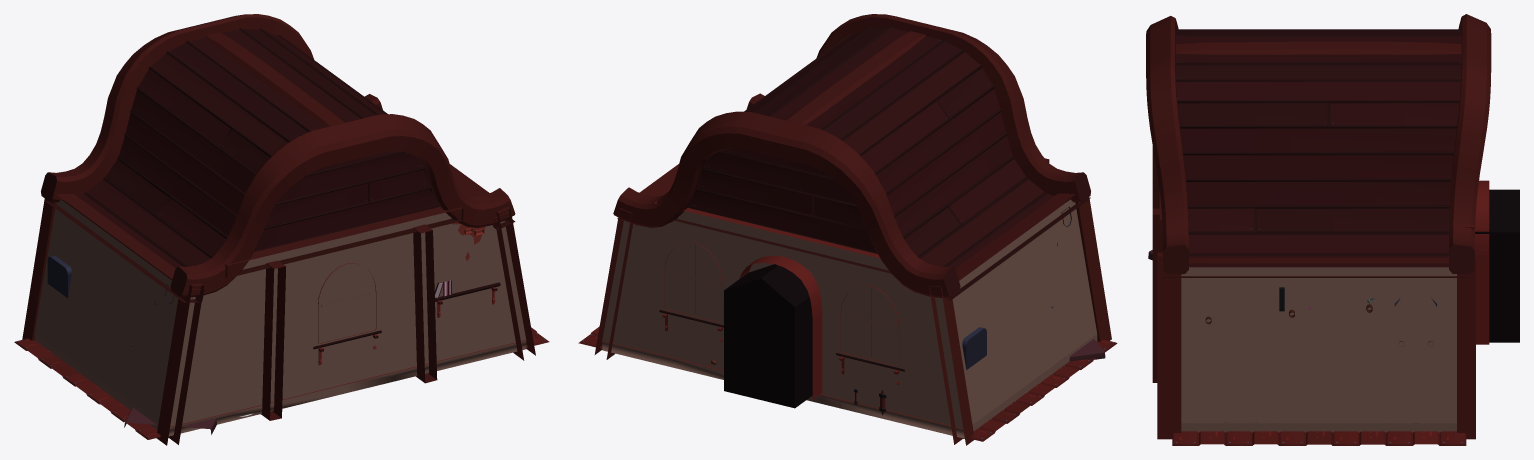
Rendered from HouseInside.fbx.
The picture shows the model from 3 angles, left to right: view 1: azimuth 30°, elevation 25°; view 2: azimuth 150°, elevation 25°; view 3: azimuth 270°, elevation 25°; orthographic projection. The views are drawn at different scales.
Visible parts, largest first — view 1: house_base, fridge, Bed_shelf; view 2: house_base, door_frame, fridge; view 3: house_base, door_frame.
Part boxes in pixels (x1,y1,x2,y2): house_base: [14, 14, 549, 445]; fridge: [47, 255, 71, 298]; Bed_shelf: [434, 279, 500, 317]; house_base: [578, 14, 1117, 445]; door_frame: [739, 255, 822, 399]; fridge: [962, 327, 986, 369]; house_base: [1146, 14, 1519, 445]; door_frame: [1474, 180, 1489, 344].
Size of the model in its own units: 809 by 526 by 584.
